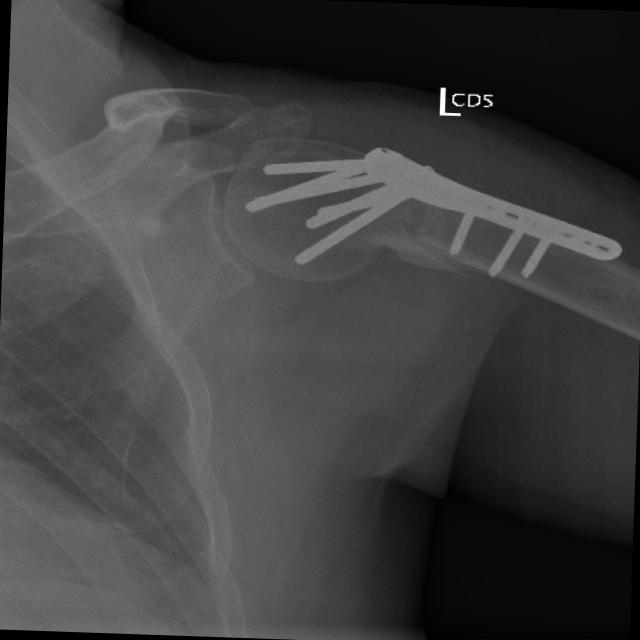shoulder fracture: (348, 183, 528, 332)
